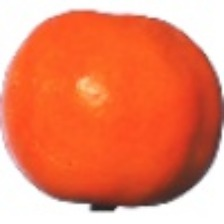tangerine: (49, 39, 208, 222)
